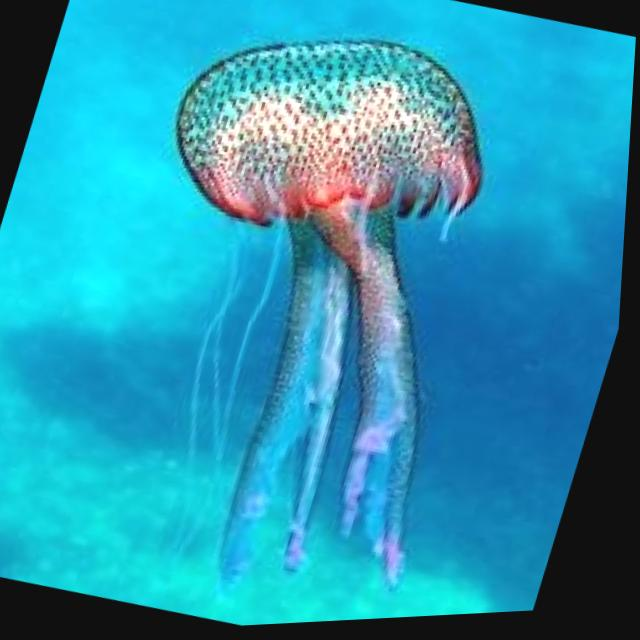Jellyfish: (42, 0, 559, 637)
